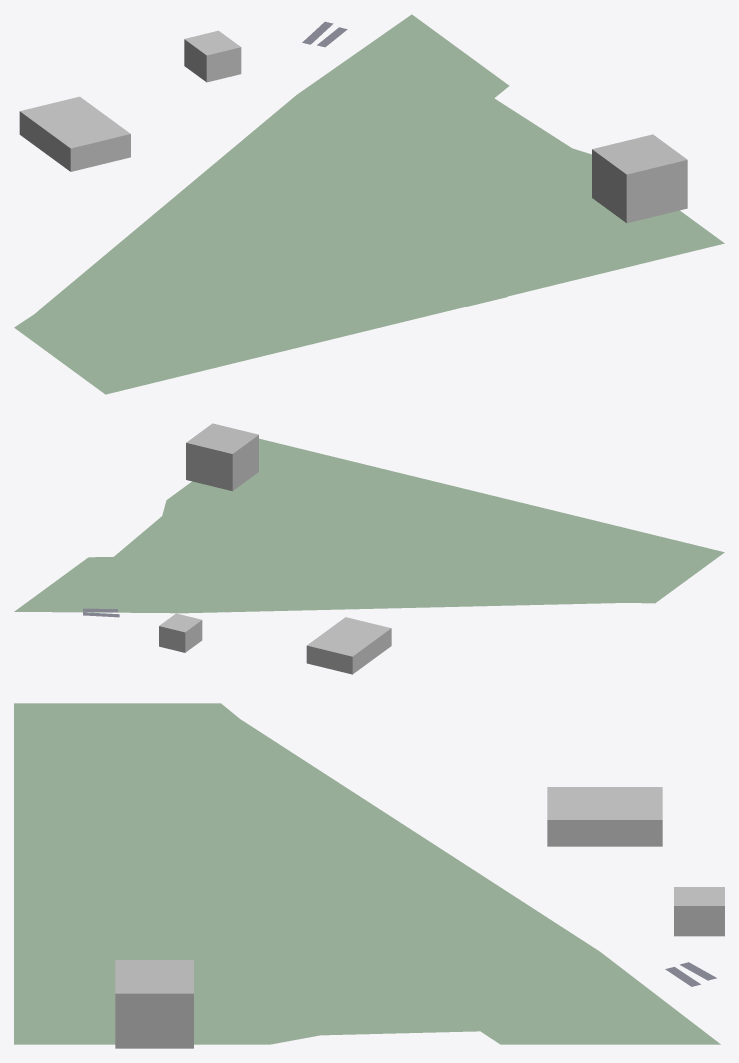
The model's file is 130_126_mid.glb.
3 renders of one model, top to bottom at view 1: azimuth 30°, elevation 25°; view 2: azimuth 150°, elevation 25°; view 3: azimuth 270°, elevation 25°, orthographic. The views are drawn at different scales.
Bounding box in the file's own units: 506 × 38.19 × 440.
